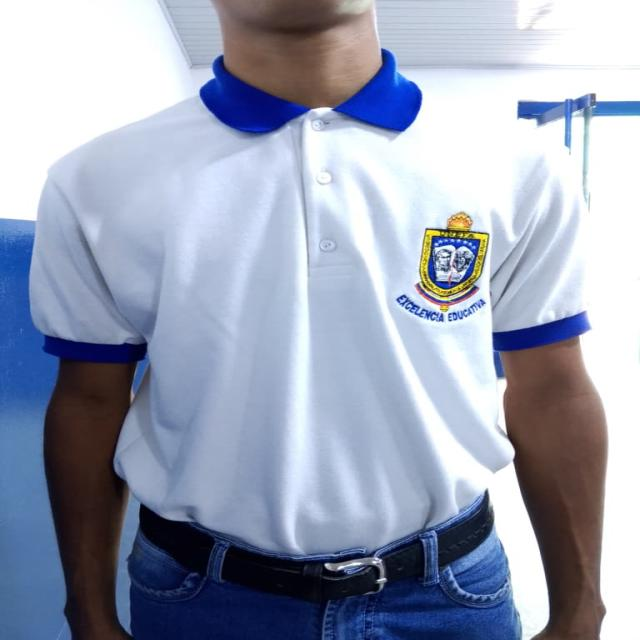uniforme_superior: (28, 46, 594, 558)
